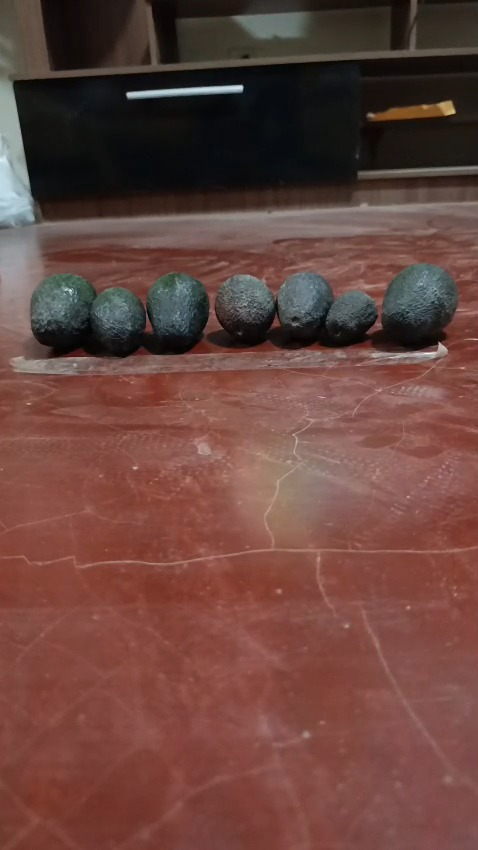Primera: (381, 262, 458, 344), (29, 272, 96, 348), (145, 272, 209, 350)
Segunda: (215, 273, 277, 344), (88, 286, 147, 355), (276, 271, 333, 341)
Tercera: (324, 290, 377, 345)
